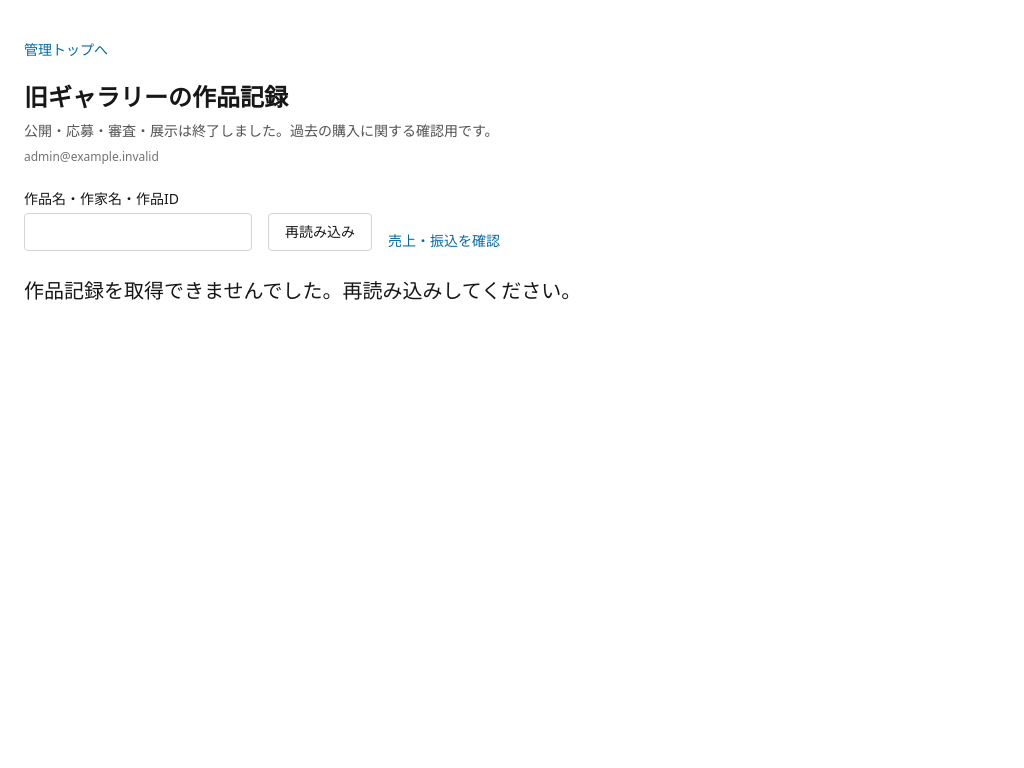
Test: retired gallery support reader › recovers from a failed read using only another GET
This screenshot has width=1024, height=768.
Check: the message "作品記録を取得できませんでした。再読み込みしてください。" is shown, box [24,276,581,304]
Click the button "再読み込み": (320,232) [268,212,372,250]
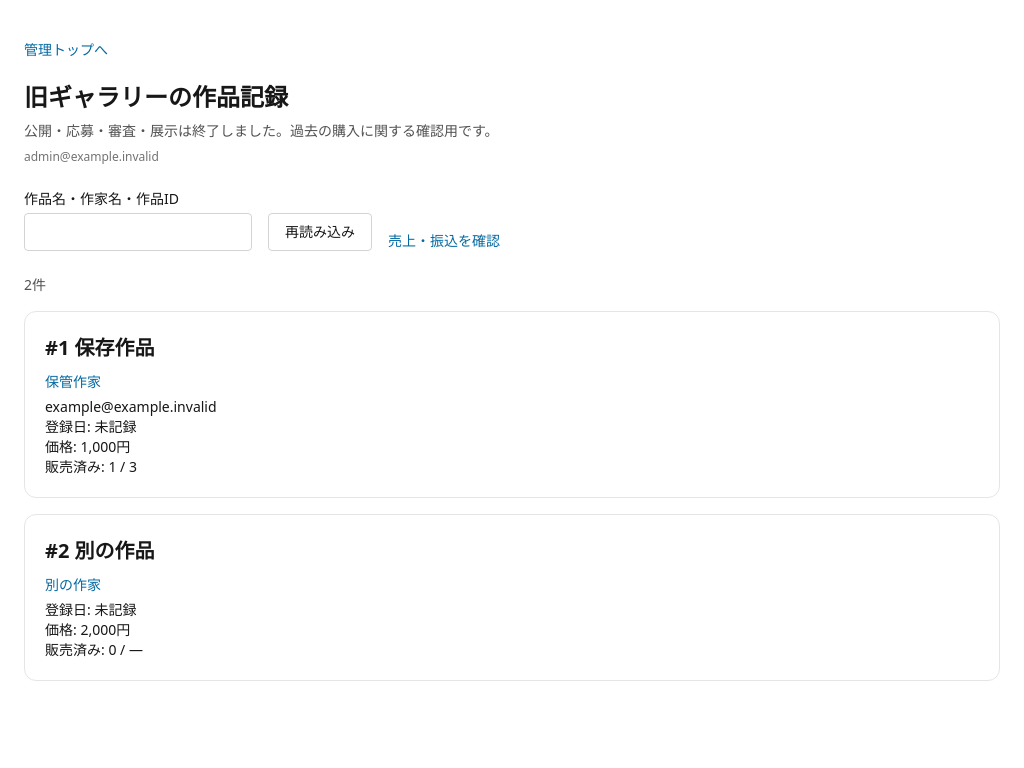
Check: the heading "#1 保存作品" is shown, box [45,334,155,360]
Check: the message "作品記録を取得できませんでした。再読み込みしてください。" is gone
